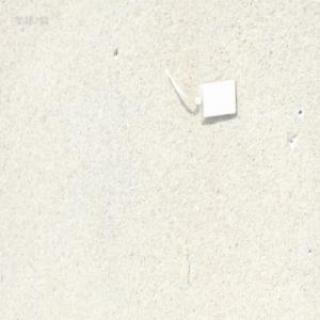LuggageTagtrack_idkeyframe: (162, 60, 238, 124)
